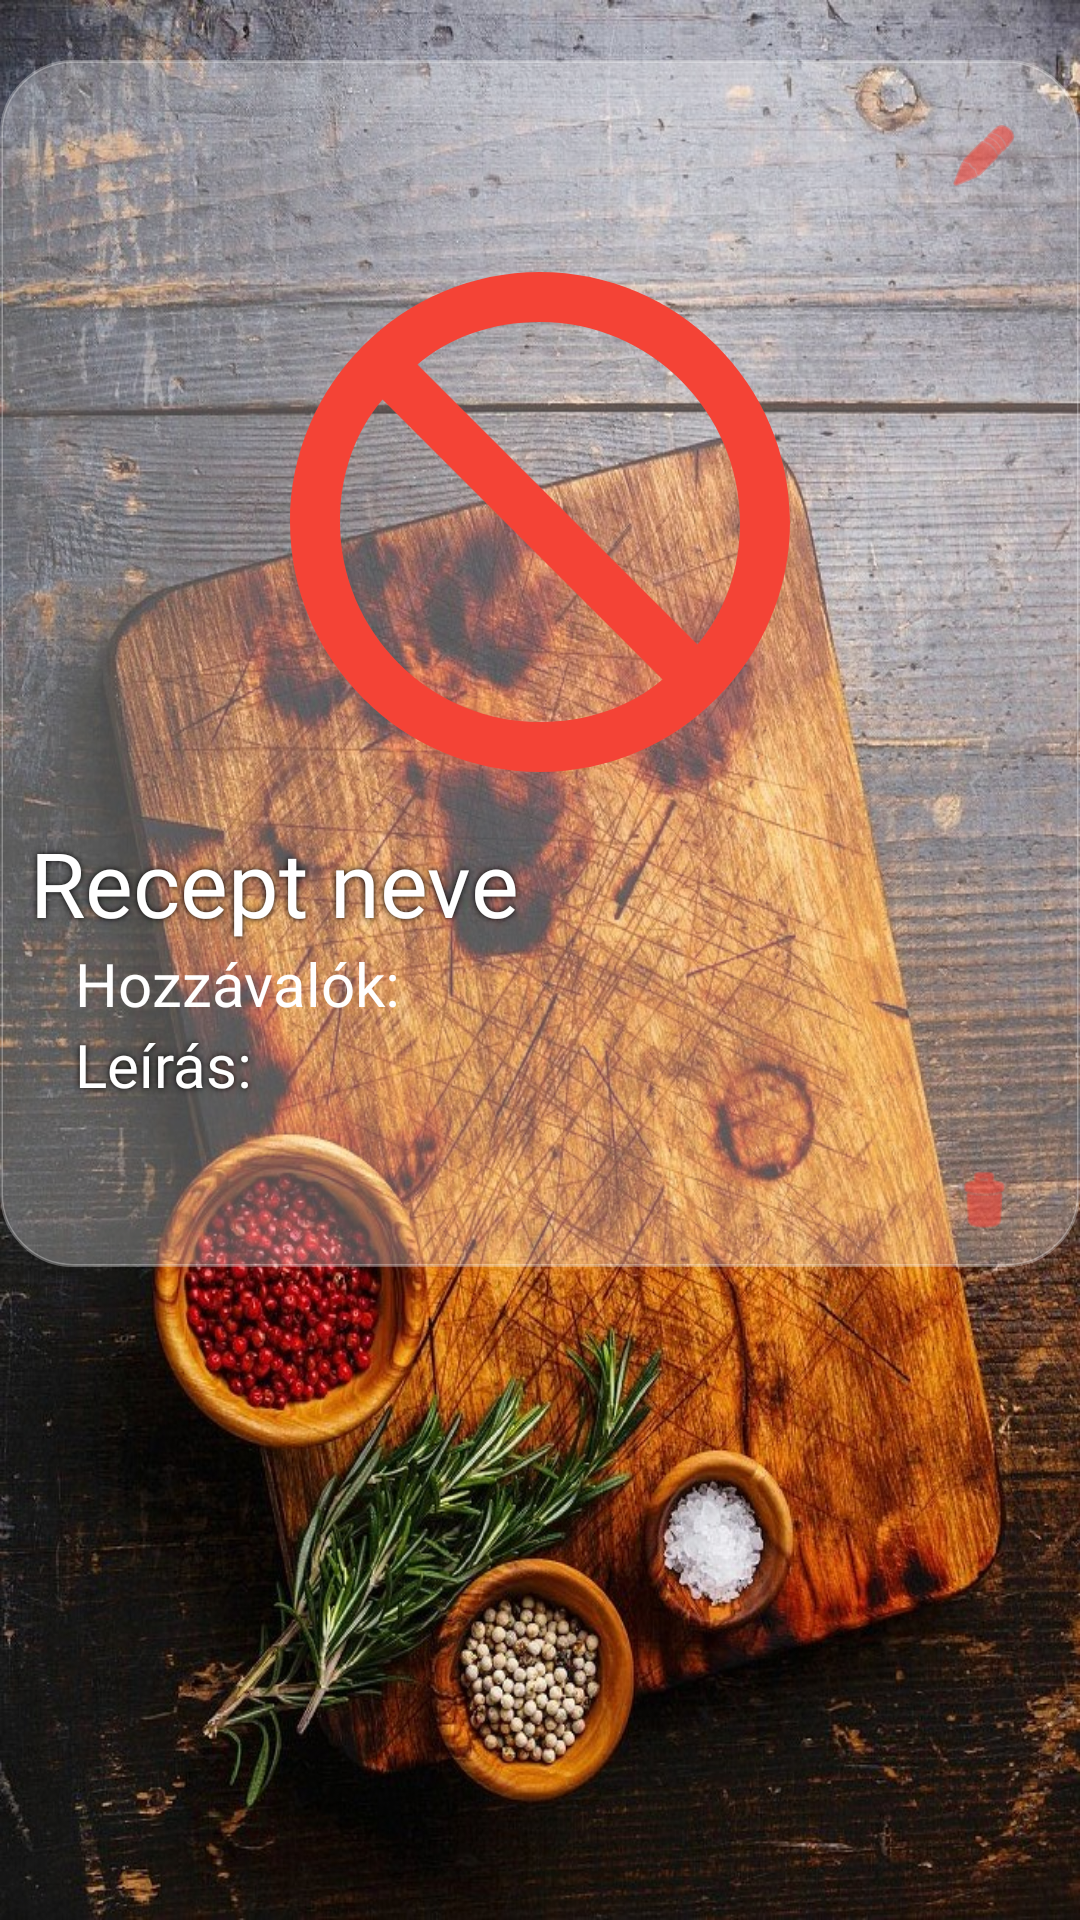

Named icons in this screenshot (1080x1920) and their centers, point (x, y):
delete: point (984, 1201)
edit: point (984, 156)
